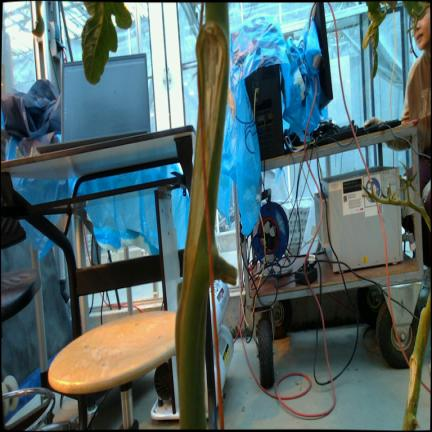MainStem: (176, 0, 230, 430), (402, 290, 431, 431)
